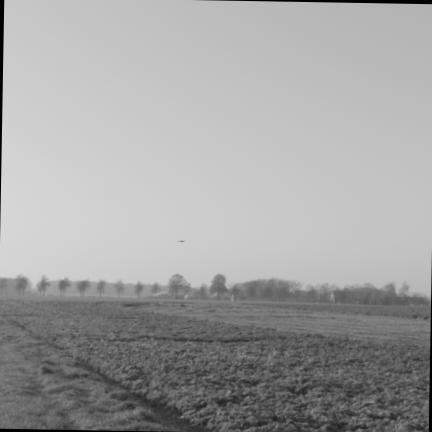Shahed: (177, 239, 185, 242)
